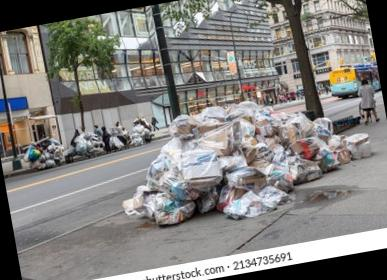road: (27, 223, 387, 280), (8, 151, 159, 251), (4, 140, 166, 192)
trash: (37, 0, 387, 280), (0, 26, 86, 280), (180, 149, 222, 189), (146, 153, 183, 198), (271, 112, 316, 147), (198, 122, 241, 156), (223, 190, 268, 220), (226, 101, 270, 127), (146, 153, 176, 191), (226, 166, 266, 193), (154, 200, 195, 226), (287, 155, 322, 184), (216, 185, 247, 212), (290, 137, 326, 160), (122, 185, 148, 216), (226, 101, 260, 122), (169, 114, 200, 137), (313, 147, 340, 173), (327, 135, 351, 164), (345, 133, 371, 159), (300, 120, 331, 141), (195, 106, 227, 125), (169, 181, 199, 201), (278, 122, 303, 146), (192, 122, 227, 139), (186, 176, 222, 192), (160, 137, 182, 163), (197, 188, 218, 214), (218, 154, 247, 172), (200, 106, 227, 122), (256, 121, 280, 137), (313, 117, 333, 134), (238, 118, 255, 137), (180, 137, 200, 152), (272, 144, 286, 163), (242, 146, 256, 164), (264, 135, 280, 149)
